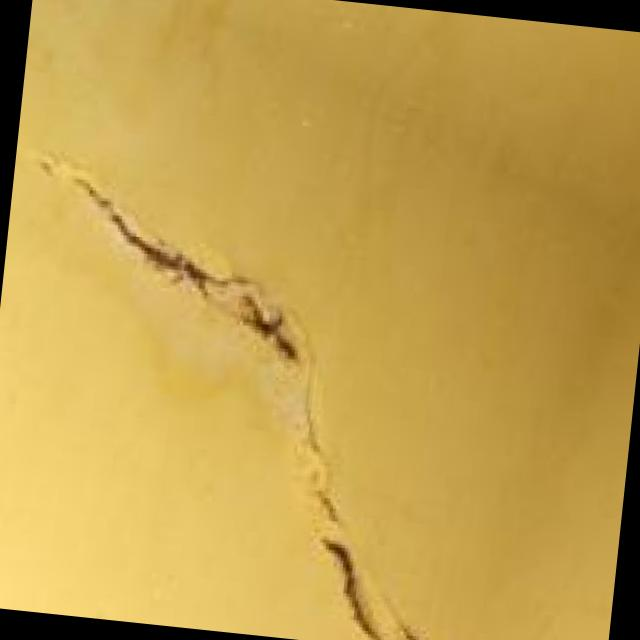crack: (0, 161, 495, 640)
